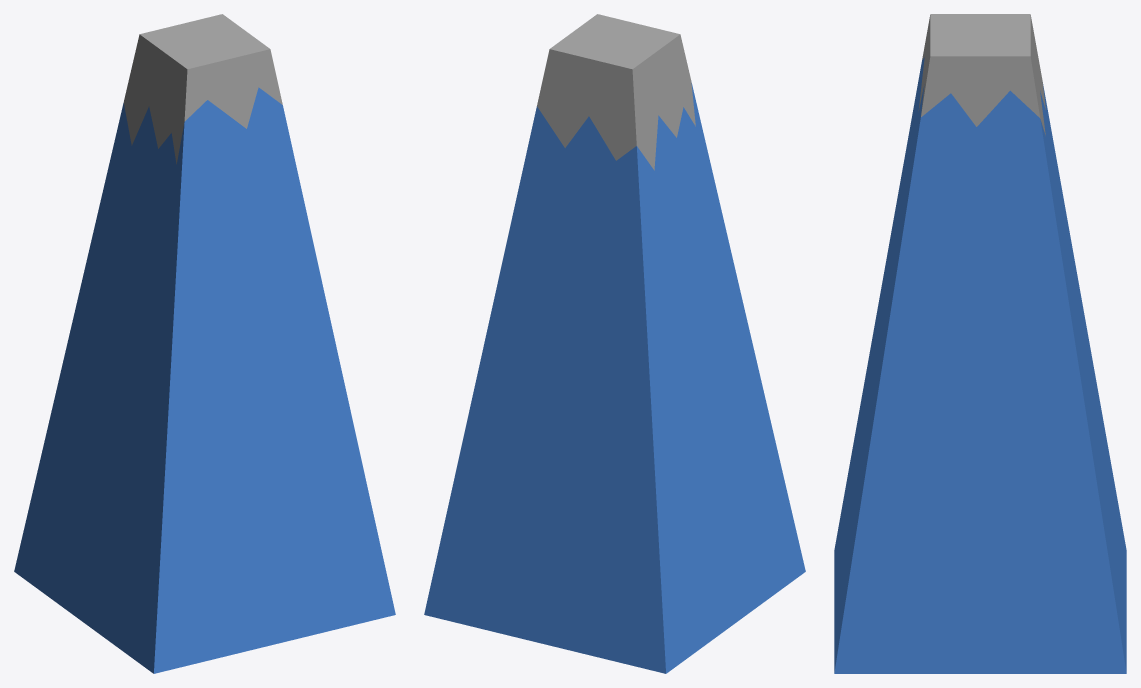
The model's file is iceberg03.fbx.
The picture shows the model from 3 angles, left to right: view 1: azimuth 30°, elevation 25°; view 2: azimuth 150°, elevation 25°; view 3: azimuth 270°, elevation 25°; orthographic projection. The views are drawn at different scales.
Visible parts, largest first — view 1: iceberg03; view 2: iceberg03; view 3: iceberg03.
Boxes of the visible parts, left/top/right/bottom form: iceberg03: left=14, top=14, right=395, bottom=673; iceberg03: left=424, top=14, right=805, bottom=673; iceberg03: left=834, top=14, right=1126, bottom=673.
Size of the model in its own units: 179 by 389 by 179.
